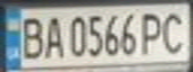0: (66, 11, 87, 58)
5: (84, 11, 106, 58)
6: (118, 9, 142, 56), (103, 10, 124, 57)
A: (39, 12, 66, 61)
B: (15, 12, 48, 61)
C: (157, 7, 190, 55)
P: (139, 8, 169, 56)
